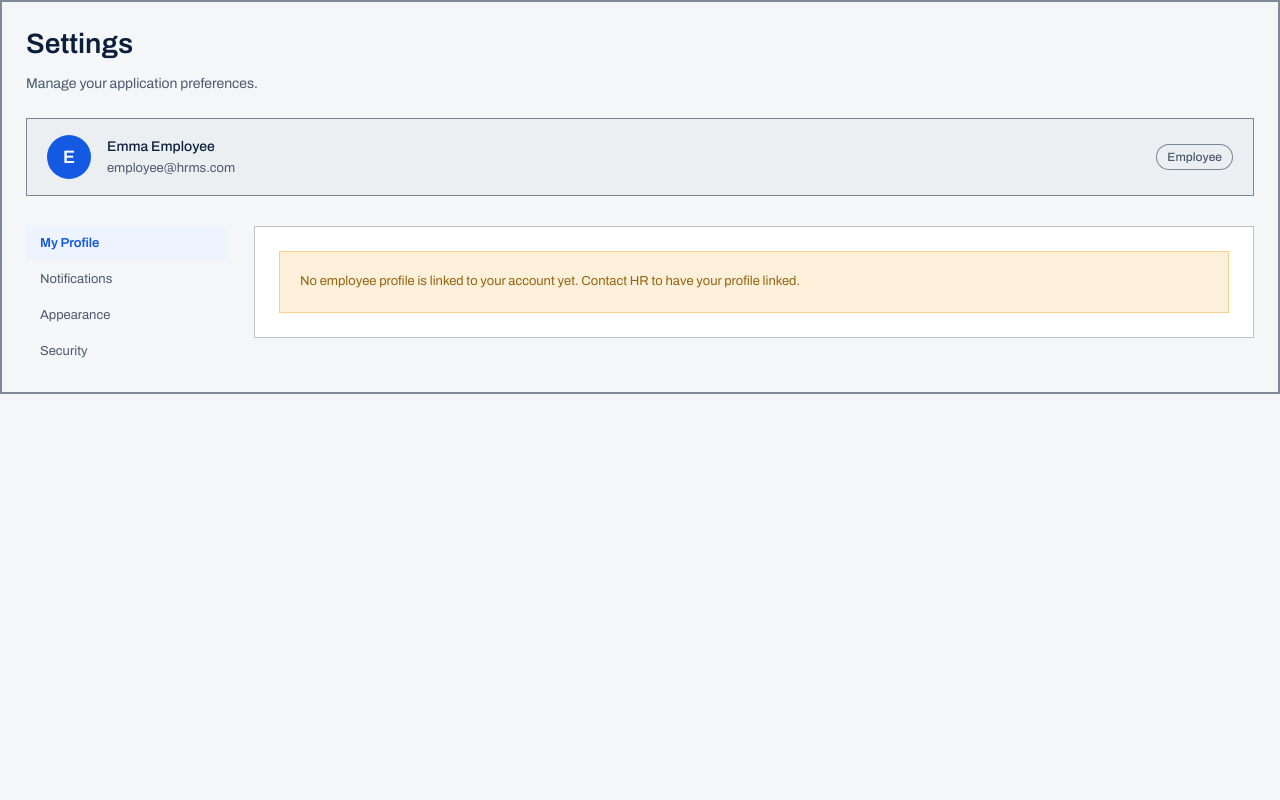
Settings — tab switching › switches to Security when its tab is clicked
This screenshot has width=1280, height=800.
Expected: the button "My Profile" is shown, [26,226,226,260]
Click the button "Security" at (126, 351), box [26,334,226,368]
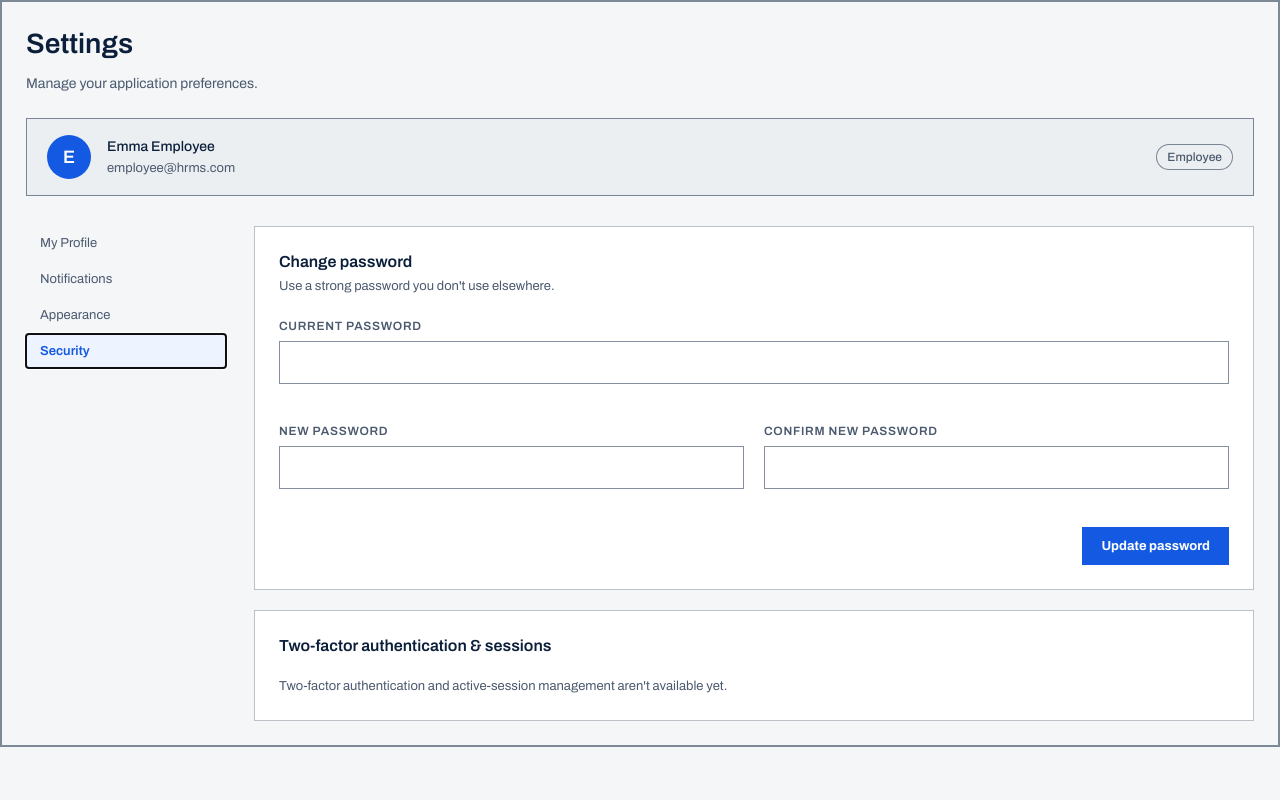
Expected: the heading "Change password" is shown, [279,253,412,270]
